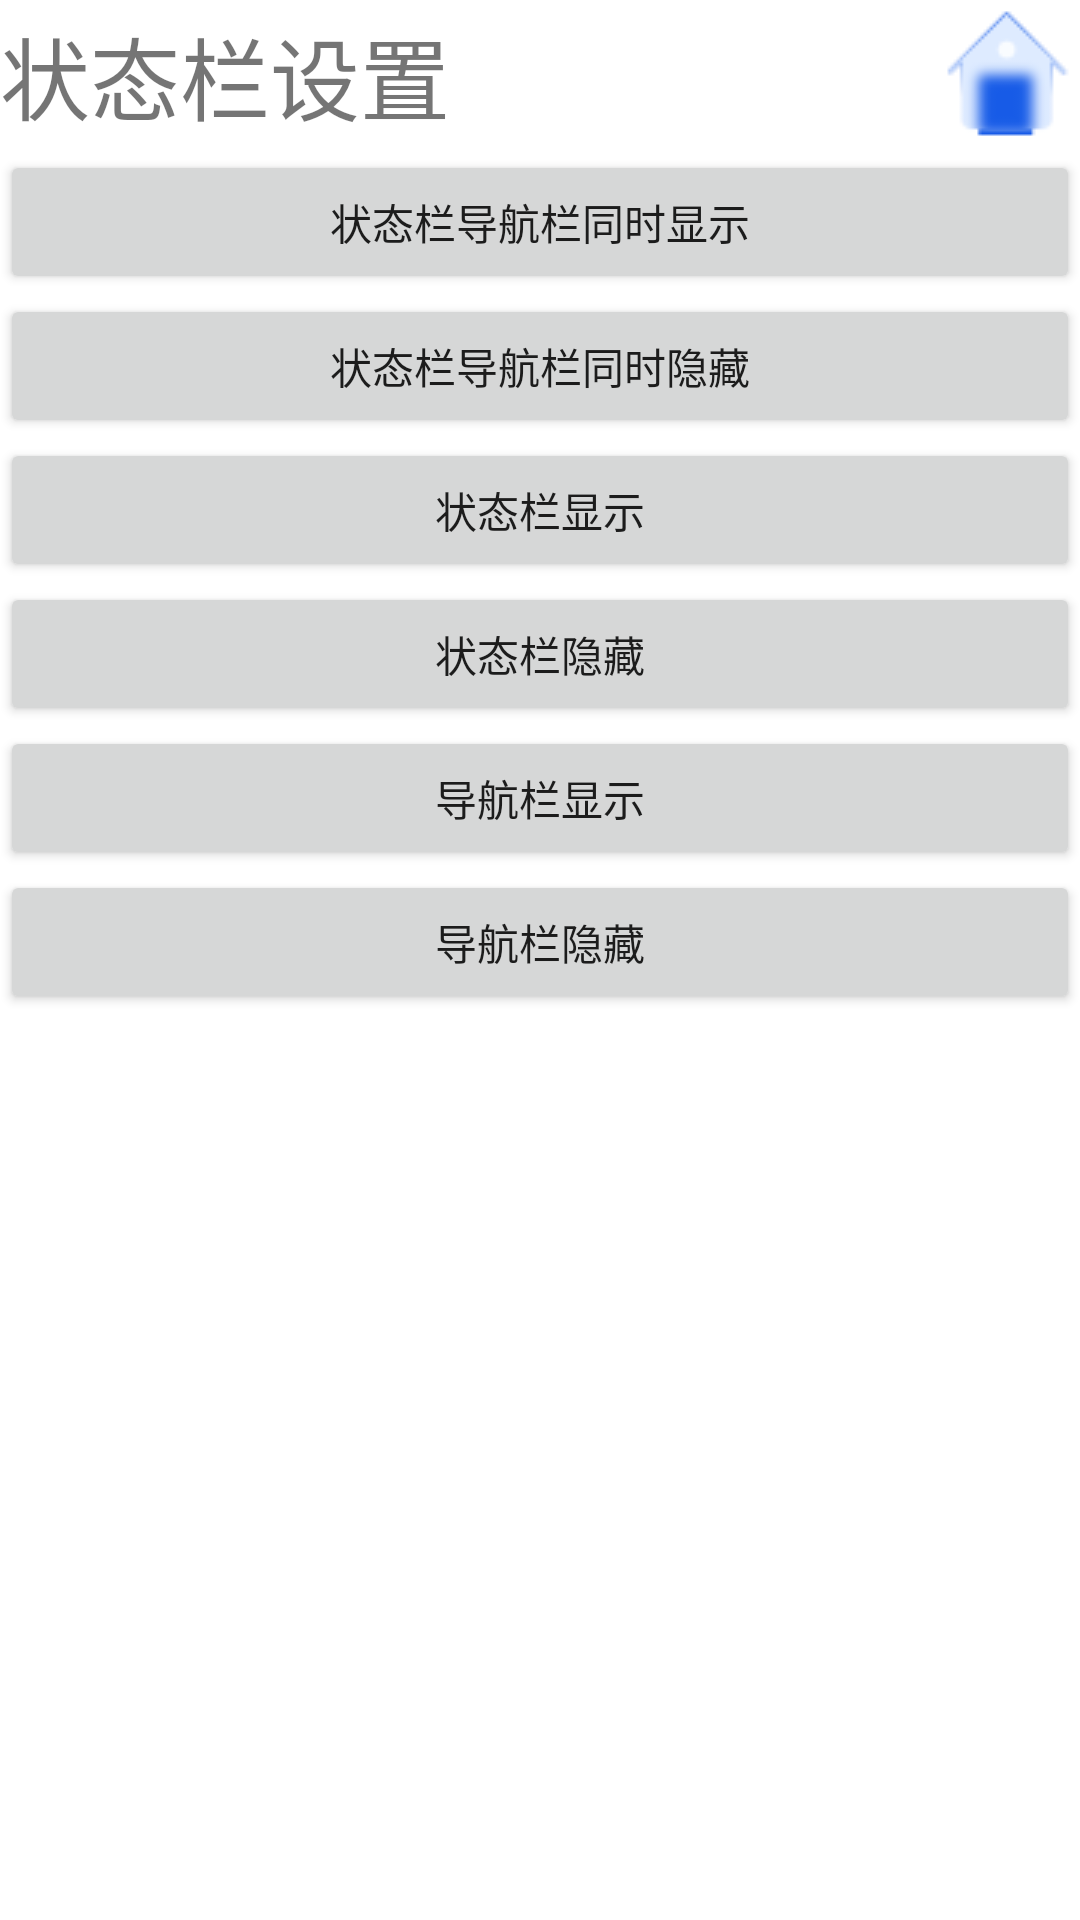

Named icons in this screenshot (1080x1920) and their centers, (x=x, y=y):
主界面: (x=1007, y=73)
